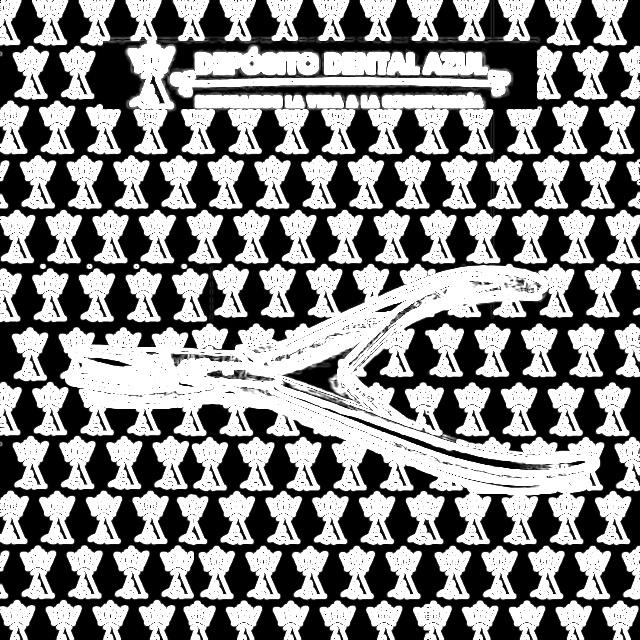gubia: (76, 265, 608, 494)
